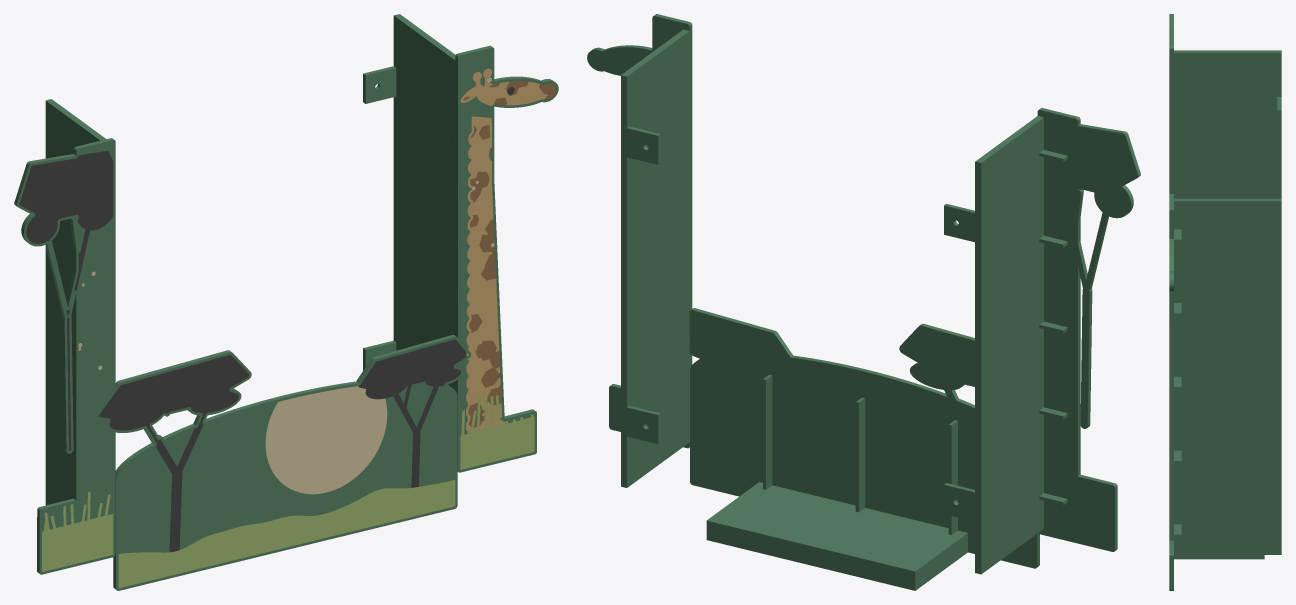
Rendered from parts.glb.
3 views of the same model, side by side, from view 1: azimuth 30°, elevation 25°; view 2: azimuth 150°, elevation 25°; view 3: azimuth 270°, elevation 25° (orthographic). The views are drawn at different scales.
Visible parts, largest first — view 1: topper__base, wing_right__base, wing_left__base, topper__night, topper__sand, topper__grass, wing_right__giraffe, wing_left__night, wing_left__grass, wing_right__grass, wing_right__spot; view 2: topper__base, wing_left__base, wing_right__base; view 3: wing_right__base, wing_left__base, topper__base.
Boxes of the visible parts, box(x1,y1,x2,y2) form: topper__base: box(97, 334, 470, 590); wing_right__base: box(363, 14, 558, 472); wing_left__base: box(14, 99, 115, 574); topper__night: box(99, 339, 466, 552); topper__sand: box(265, 386, 387, 494); topper__grass: box(118, 479, 455, 588); wing_right__giraffe: box(460, 68, 547, 433); wing_left__night: box(19, 151, 113, 450); wing_left__grass: box(42, 491, 113, 571); wing_right__grass: box(460, 395, 534, 469); wing_right__spot: box(463, 81, 555, 427); topper__base: box(689, 308, 1056, 590); wing_left__base: box(944, 108, 1140, 574); wing_right__base: box(587, 14, 692, 487); wing_right__base: box(1169, 194, 1281, 590); wing_left__base: box(1169, 14, 1281, 198); topper__base: box(1174, 555, 1264, 559).
Size of the model in its own units: 356 by 284 by 73.
